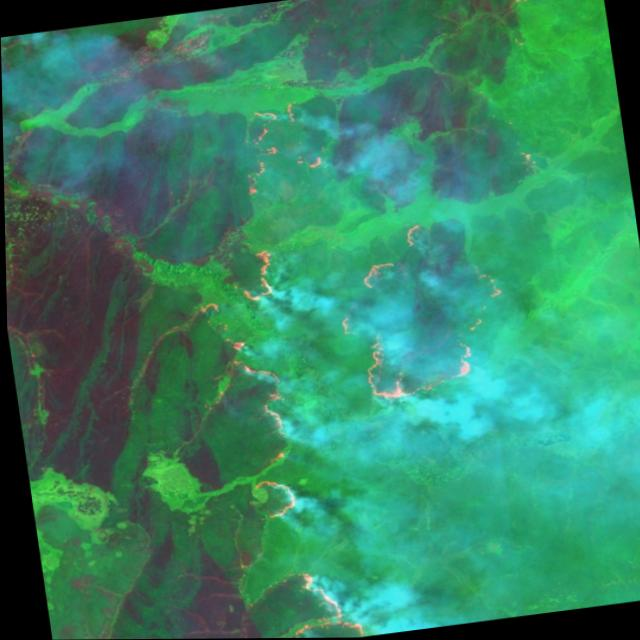fire: (155, 96, 369, 639), (321, 211, 525, 409)
